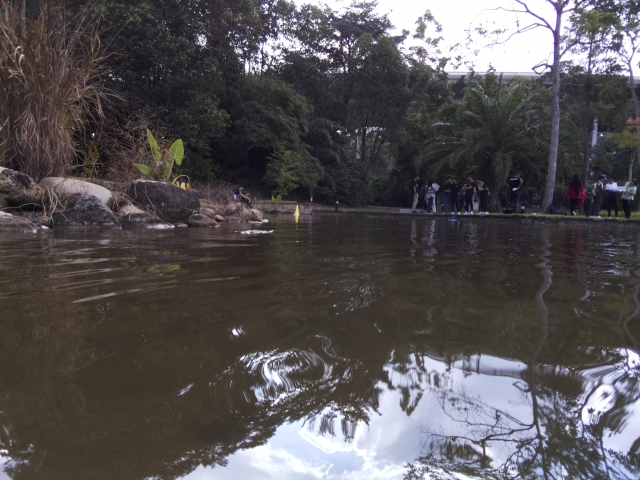checkpoint: (292, 203, 301, 217)
